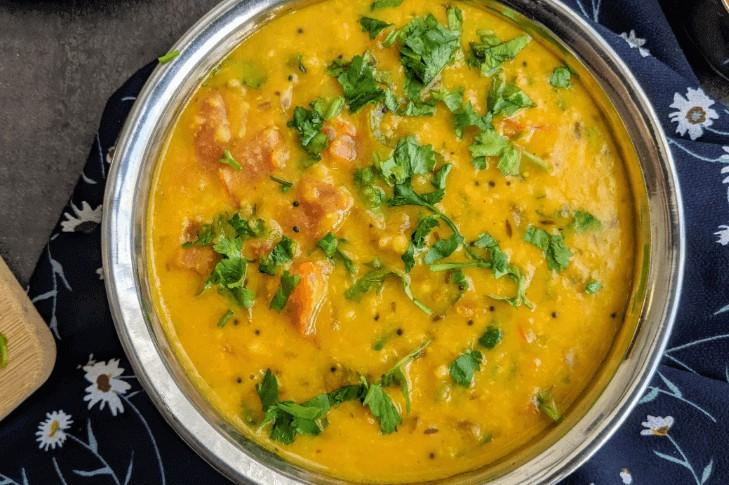Dal: (147, 0, 642, 485)
